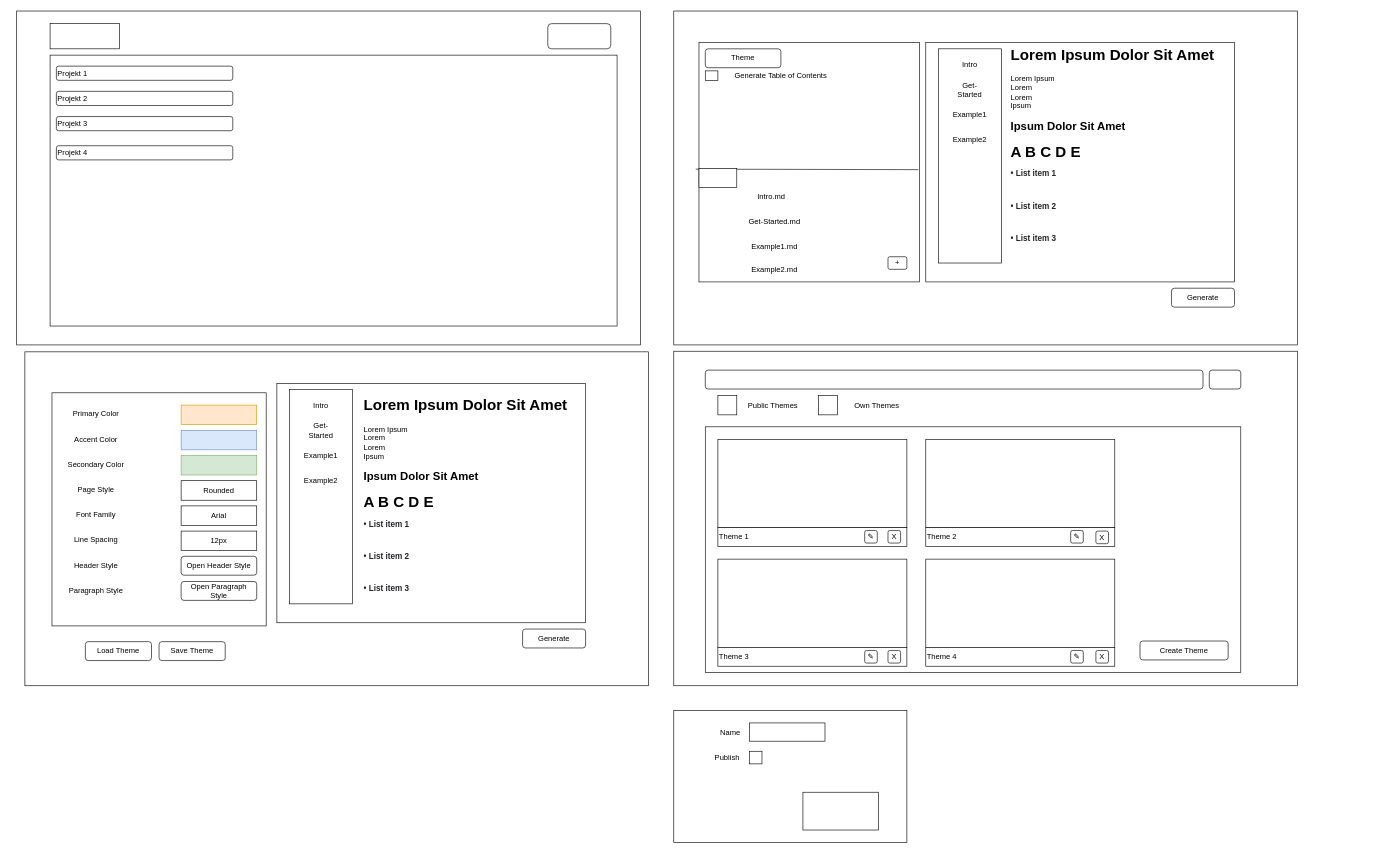
This 1383x854 diagram has some shape labels left out. The centre of each missing label's shape, as x and y in pixels:
"Create Project" goes at point (579, 36).
"Explorer" goes at point (717, 177).
"Go" goes at point (1225, 379).
"Save" goes at point (840, 811).
"Search" goes at point (954, 379).
"Themes" goes at point (84, 36).
